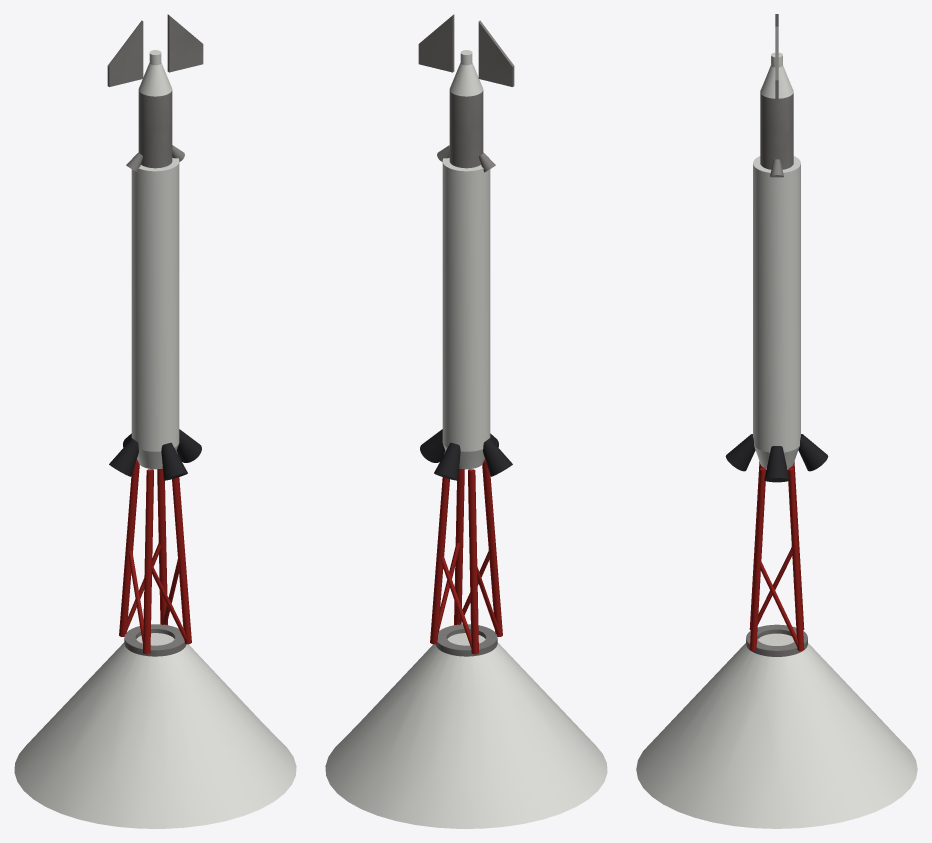
The model's file is prop24_launch_escape_tower_m_canards.glb.
The picture shows the model from 3 angles, left to right: view 1: azimuth 30°, elevation 25°; view 2: azimuth 150°, elevation 25°; view 3: azimuth 270°, elevation 25°; orthographic projection.
Parts seen in each view (by area): view 1: boost_cover, abort_motor, tower_truss, jettison_motor, abort_nozzles, canard_2, canard_1, docking_ring, nose; view 2: boost_cover, abort_motor, tower_truss, jettison_motor, abort_nozzles, canard_2, canard_1, docking_ring, nose; view 3: boost_cover, abort_motor, tower_truss, jettison_motor, abort_nozzles, docking_ring, nose.
Part boxes in pixels (bbox=[...]): boost_cover: bbox=[14, 633, 296, 828]; abort_motor: bbox=[131, 157, 179, 469]; tower_truss: bbox=[119, 459, 191, 654]; jettison_motor: bbox=[126, 90, 184, 172]; abort_nozzles: bbox=[109, 429, 201, 480]; canard_2: bbox=[107, 20, 143, 86]; canard_1: bbox=[167, 14, 203, 72]; docking_ring: bbox=[124, 624, 186, 656]; nose: bbox=[138, 50, 172, 96]; boost_cover: bbox=[325, 633, 607, 828]; abort_motor: bbox=[442, 157, 490, 469]; tower_truss: bbox=[430, 459, 502, 654]; jettison_motor: bbox=[437, 90, 495, 172]; abort_nozzles: bbox=[420, 429, 512, 480]; canard_2: bbox=[478, 20, 514, 86]; canard_1: bbox=[418, 14, 454, 72]; docking_ring: bbox=[435, 624, 497, 656]; nose: bbox=[449, 50, 483, 96]; boost_cover: bbox=[636, 633, 917, 828]; abort_motor: bbox=[753, 156, 800, 468]; tower_truss: bbox=[749, 461, 804, 651]; jettison_motor: bbox=[760, 93, 793, 177]; abort_nozzles: bbox=[725, 434, 828, 482]; docking_ring: bbox=[746, 624, 807, 656]; nose: bbox=[760, 52, 793, 98].
Bounding box in the file's own units: 2.5 × 7.34 × 2.5.
4 materials, 1 textured.
